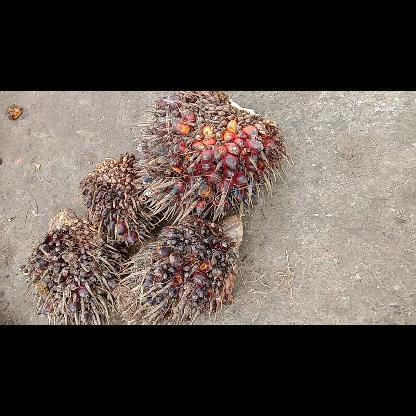TBS abnormal: (126, 218, 244, 324), (26, 212, 122, 323), (77, 152, 162, 246)
TBS masak: (138, 91, 282, 215)
